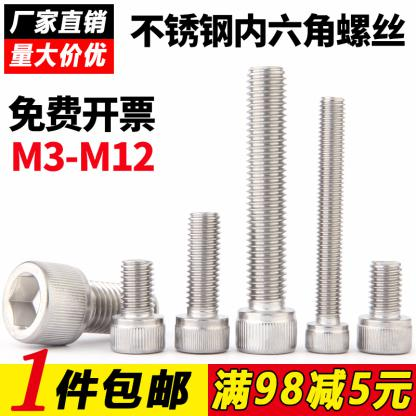FOD: (231, 63, 301, 356), (0, 259, 162, 347), (306, 94, 352, 357), (172, 211, 234, 357), (107, 255, 169, 357), (357, 257, 414, 355)
